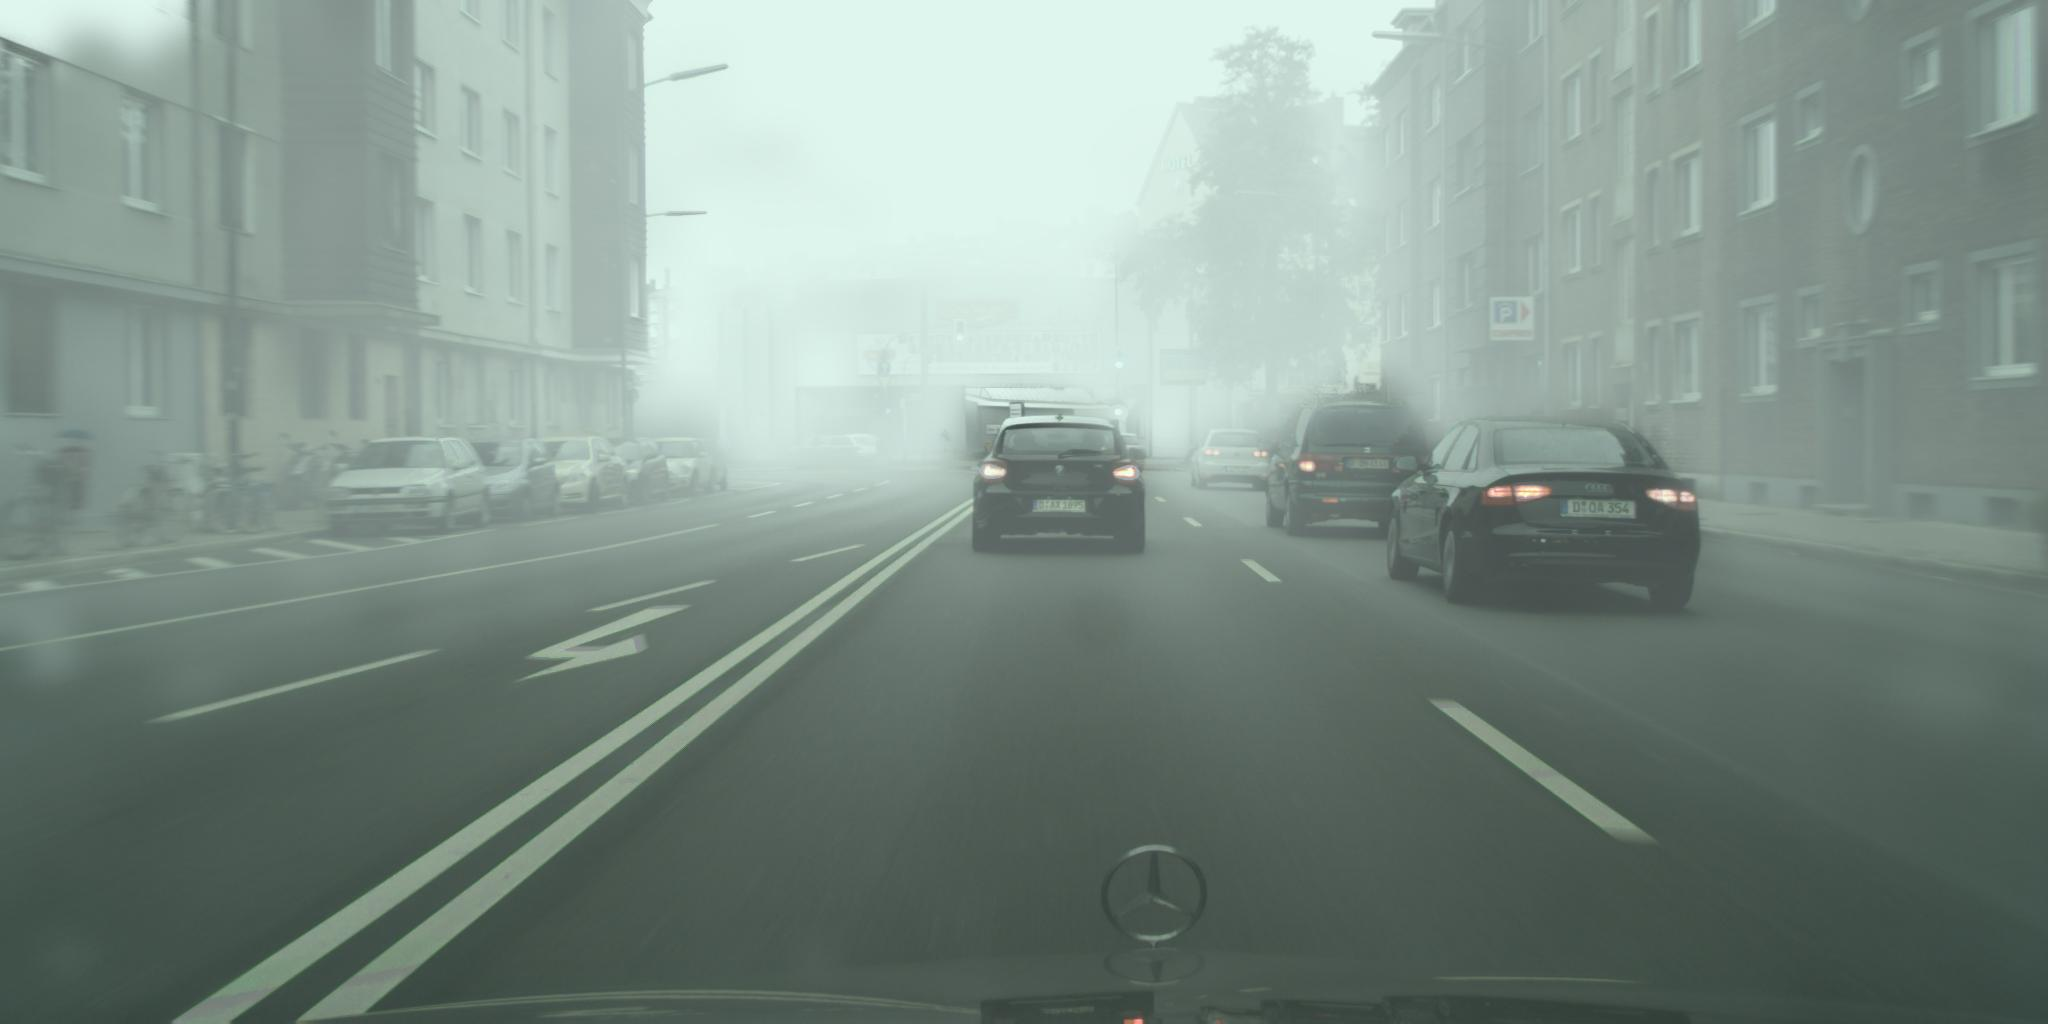car: (1384, 415, 1702, 615), (1259, 398, 1441, 541), (968, 415, 1149, 556), (323, 438, 494, 539), (538, 428, 632, 515), (468, 438, 563, 522), (1191, 428, 1279, 491), (600, 438, 670, 507), (650, 438, 717, 498), (788, 434, 859, 468), (694, 439, 729, 492), (842, 434, 888, 468), (1264, 428, 1300, 461), (1118, 434, 1147, 473)
motorcycle: (276, 434, 333, 515), (329, 430, 374, 482)
